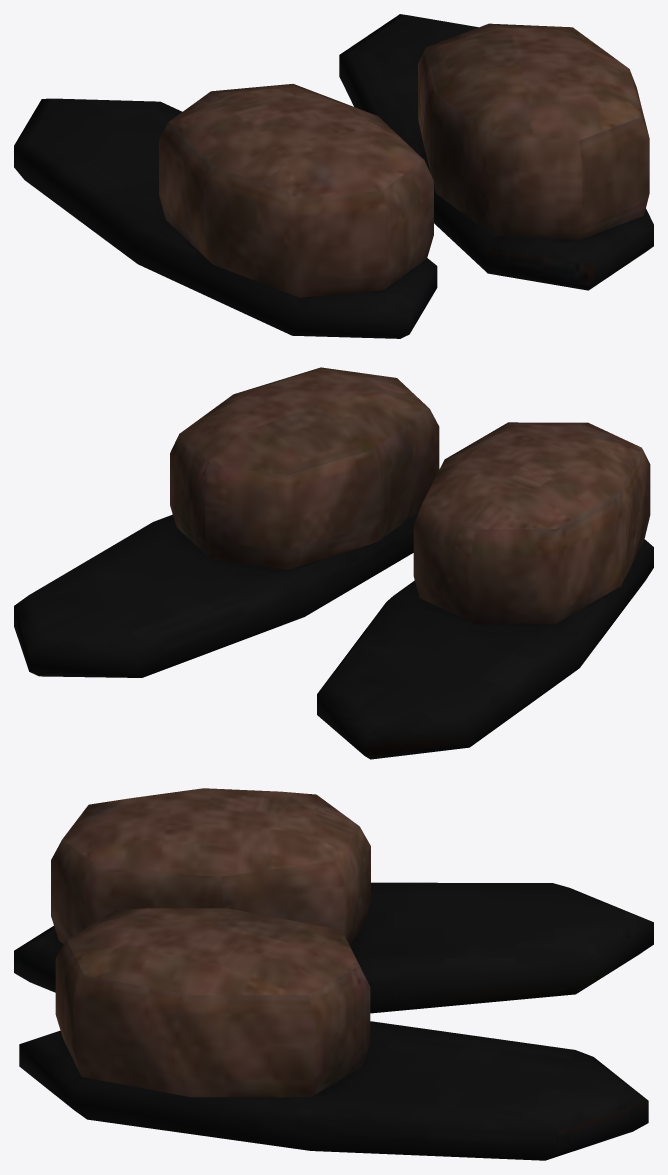
Rendered from slippers_lod1_web.glb.
3 renders of one model, top to bottom at view 1: azimuth 30°, elevation 25°; view 2: azimuth 150°, elevation 25°; view 3: azimuth 270°, elevation 25°, orthographic. The views are drawn at different scales.
Visible parts, largest first — view 1: Slippers_Body; view 2: Slippers_Body; view 3: Slippers_Body.
Part boxes in pixels (x1=…): Slippers_Body: x1=14, y1=14, x2=653, y2=338; Slippers_Body: x1=14, y1=367, x2=653, y2=759; Slippers_Body: x1=14, y1=788, x2=653, y2=1160.
Size of the model in its own units: 0.2335 by 0.073 by 0.2586.
Materials: 1 (1 with a texture image).
